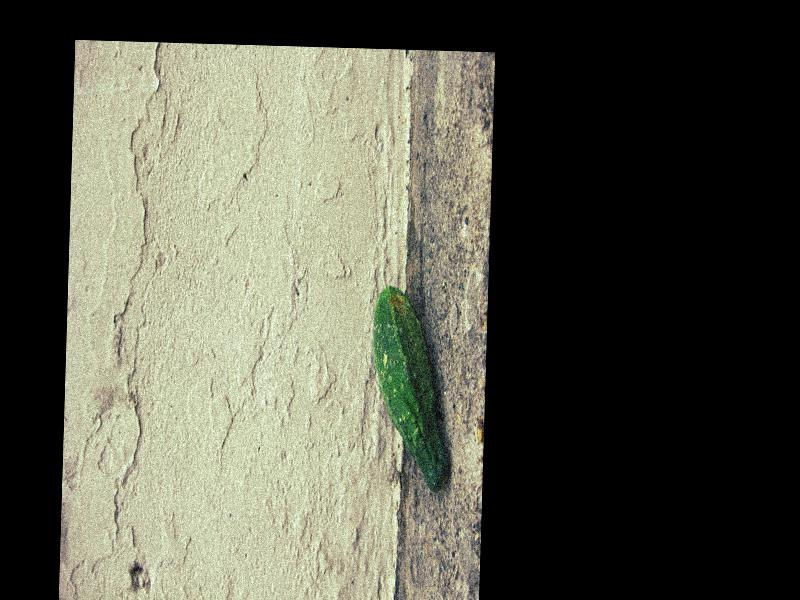Cucumber: (368, 285, 453, 489)
